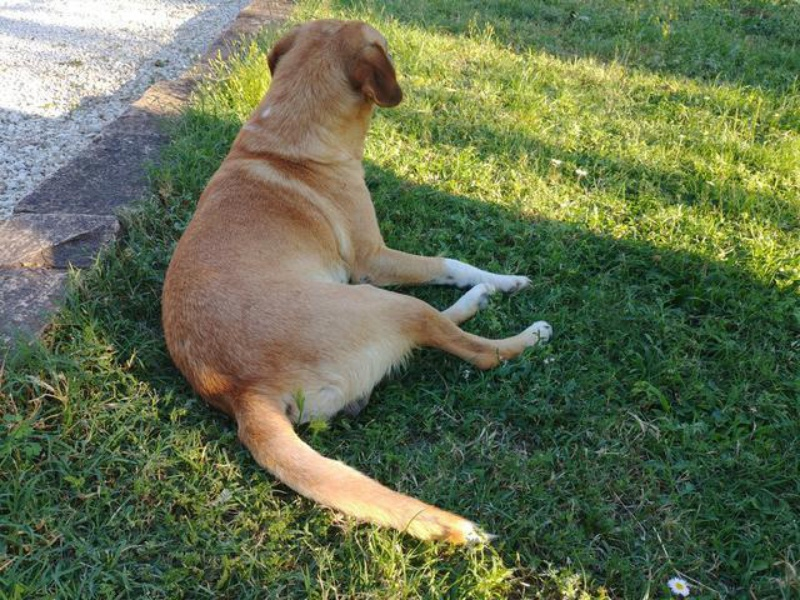puppy: (133, 12, 598, 556)
